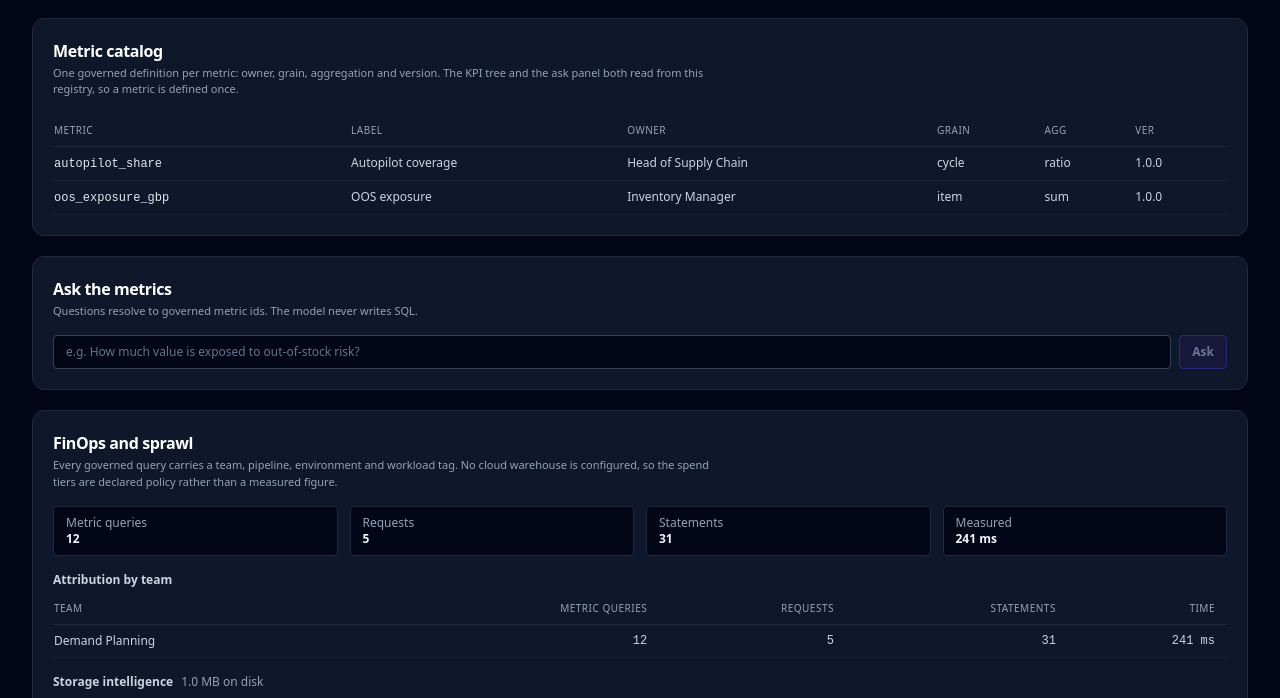
BiPage › surfaces a grounded-ask failure
This screenshot has width=1280, height=698.
(page scrolled)
Step 1. Type "anything" into the field with test id "bi-ask-input" → x=612, y=352, box [53,335,1171,369]
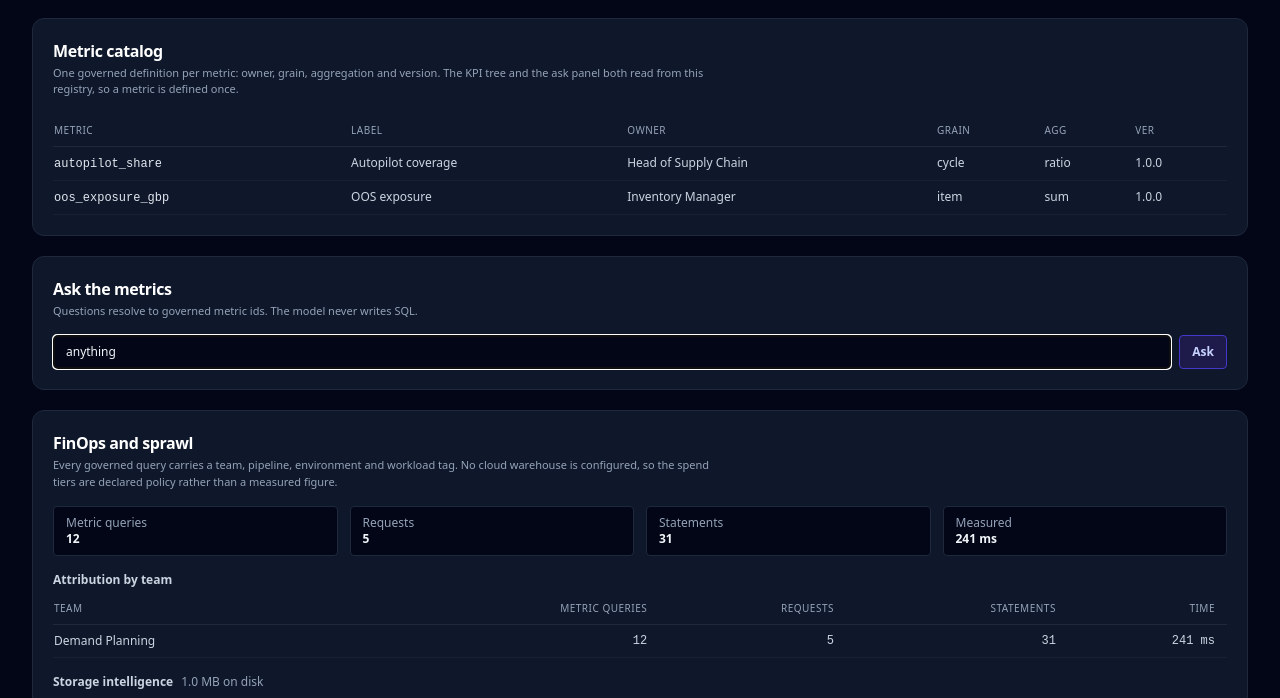
Step 2. Click the button with test id "bi-ask-submit" → x=1203, y=352, box [1179,335,1227,369]
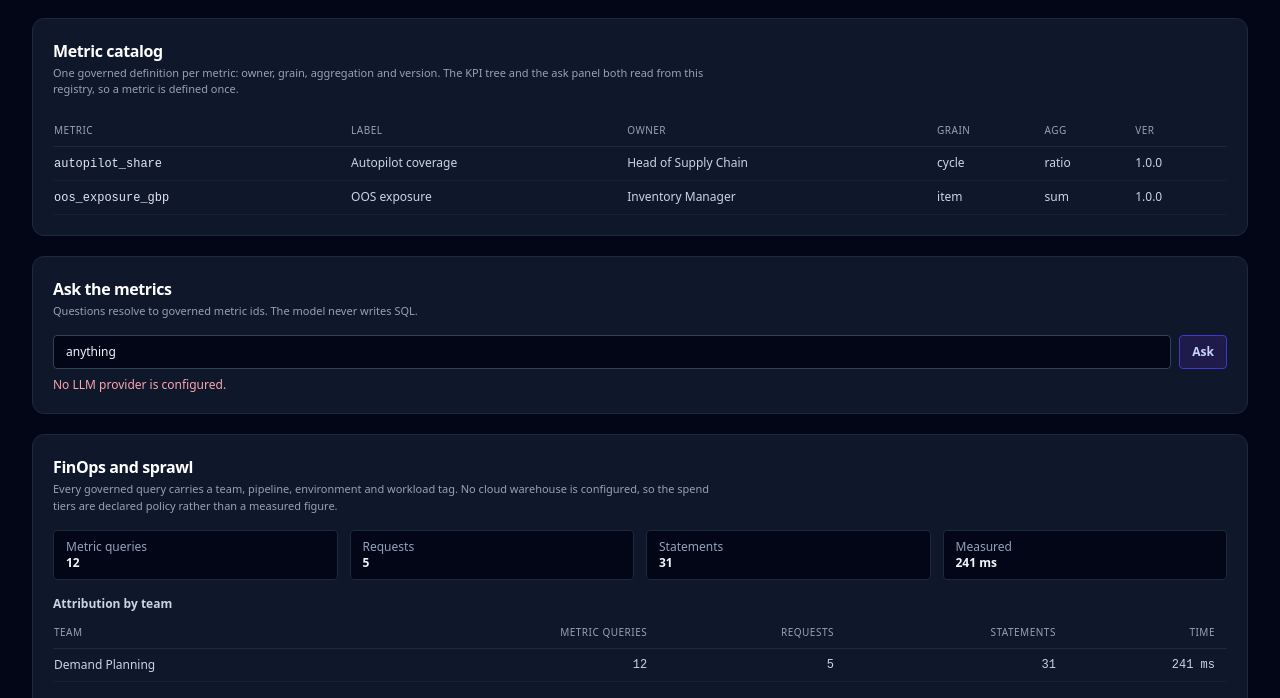
Now the text with test id "bi-ask-error" shows "No LLM provider", box [53,376,226,393]
